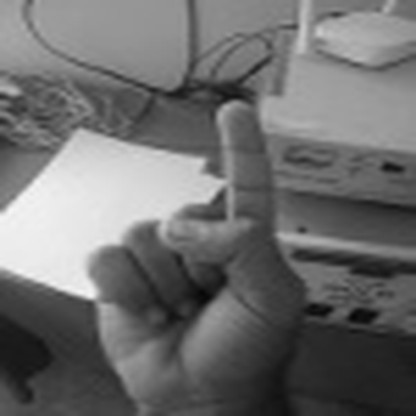d: (84, 96, 307, 414)
